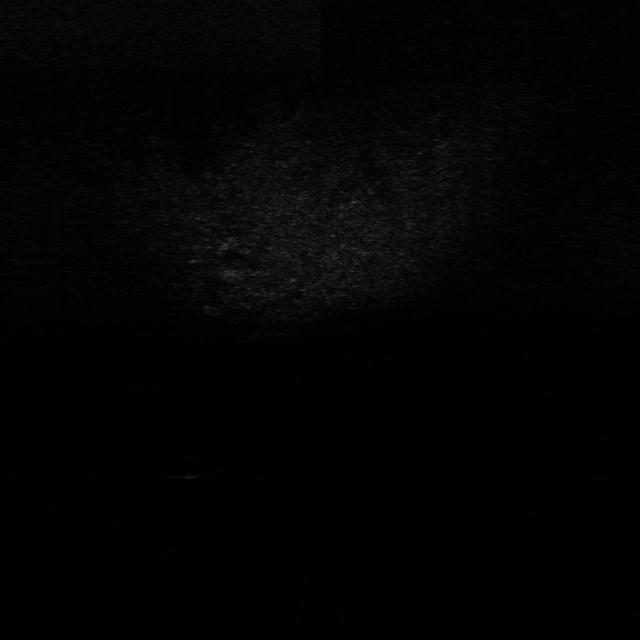ball: (170, 451, 210, 480)
